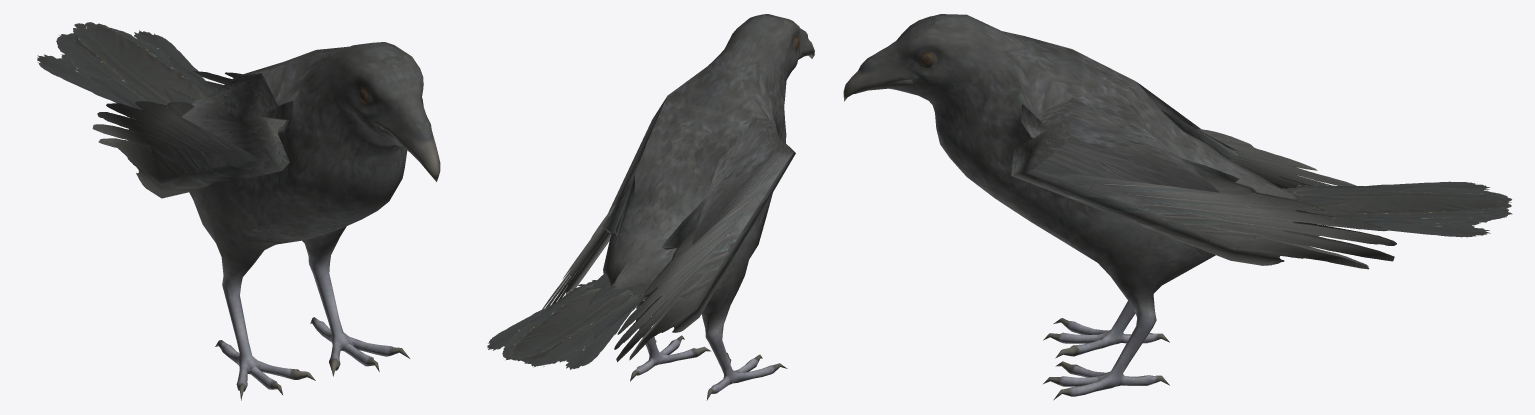
Rendered from crow-perched.glb.
3 views of the same model, side by side, from view 1: azimuth 30°, elevation 25°; view 2: azimuth 150°, elevation 25°; view 3: azimuth 270°, elevation 25° (orthographic). The views are drawn at different scales.
Visible parts, largest first — view 1: Crow_Perched; view 2: Crow_Perched; view 3: Crow_Perched.
Boxes of the visible parts, x1,y1,x2,y2 form: Crow_Perched: (37,22,440,400); Crow_Perched: (487,14,814,400); Crow_Perched: (843,14,1512,400).
Size of the model in its own units: 0.1287 by 0.2706 by 0.48.
Materials: 1 (1 with a texture image).
